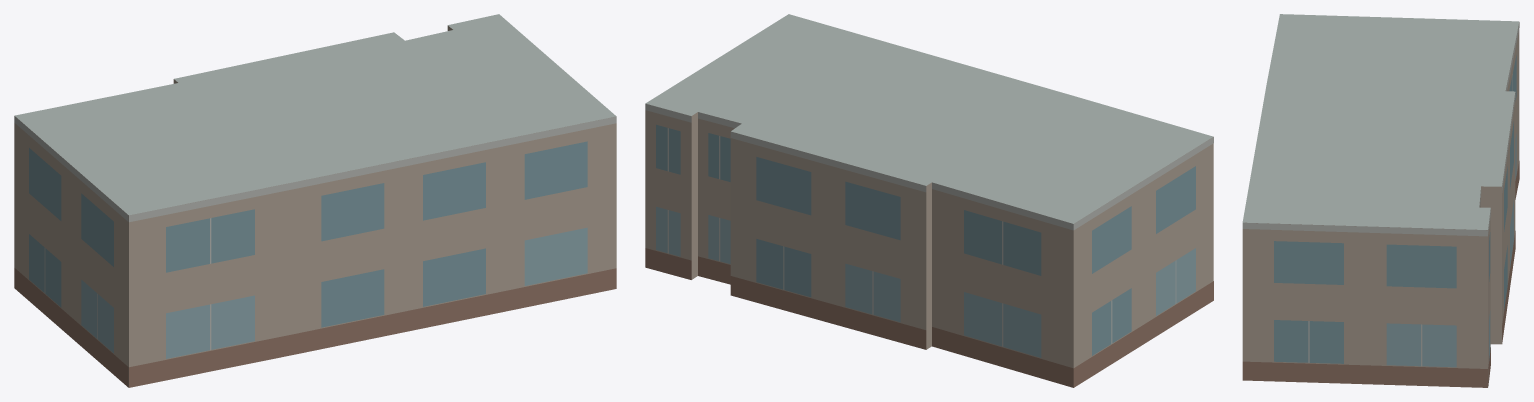
The model's file is survey-upis-32753468.glb.
The picture shows the model from 3 angles, left to right: view 1: azimuth 30°, elevation 25°; view 2: azimuth 150°, elevation 25°; view 3: azimuth 270°, elevation 25°; orthographic projection. The views are drawn at different scales.
Parts seen in each view (by area): view 1: survey-upis-32753468.tmp; view 2: survey-upis-32753468.tmp; view 3: survey-upis-32753468.tmp.
Boxes of the visible parts, left/top/right/bottom form: survey-upis-32753468.tmp: left=14, top=14, right=616, bottom=387; survey-upis-32753468.tmp: left=645, top=14, right=1213, bottom=387; survey-upis-32753468.tmp: left=1242, top=14, right=1519, bottom=387.
Bounding box in the file's own units: 17.93 × 6.1 × 9.71.
